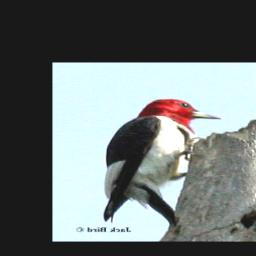Woodpecker: (100, 98, 226, 225)
